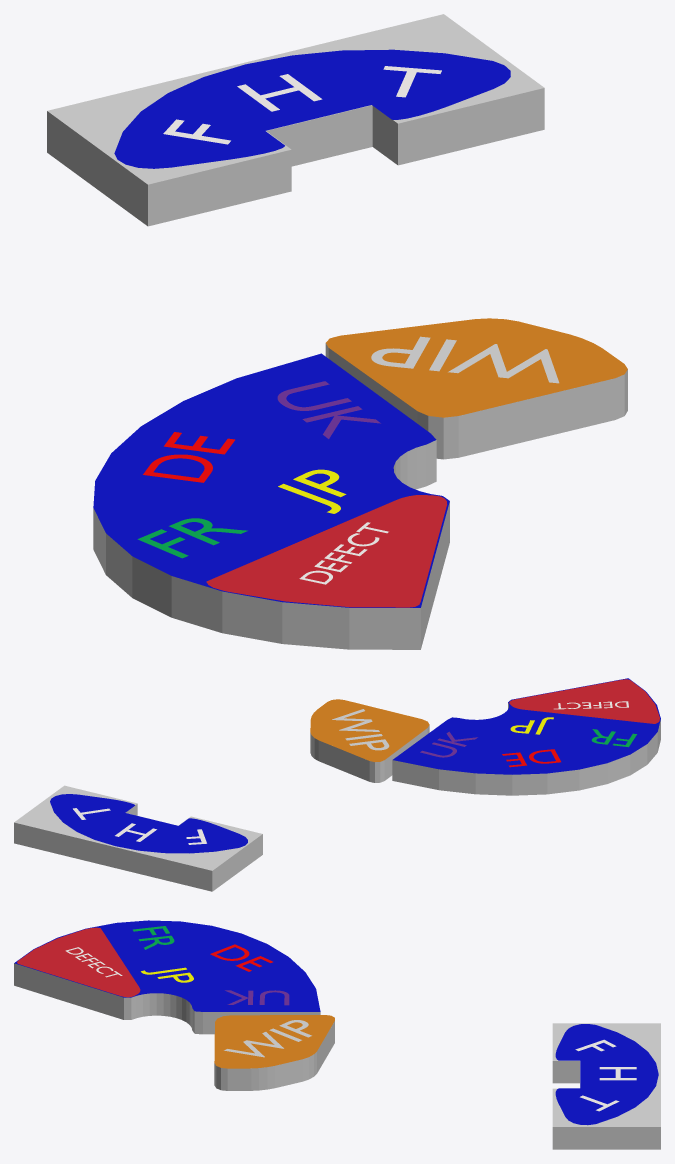
File: production_zones_mobile.dae
The picture shows the model from 3 angles, top to bottom: view 1: azimuth 30°, elevation 25°; view 2: azimuth 150°, elevation 25°; view 3: azimuth 270°, elevation 25°; orthographic projection. The views are drawn at different scales.
Parts seen in each view (by area): view 1: Circle.001, Cube, zones, Plane.001, Circle, Plane, Plane.002, Text, zones.001, Text.004, Text.005, Text.003 (+1 smaller); view 2: Circle.001, Cube, zones, Circle, Plane.001, Plane, Plane.002, Text, zones.001, Text.004, Text.005; view 3: Circle.001, zones, Cube, Circle, Plane.001, Plane, Plane.002, Text, zones.001, Text.004, Text.005, Text.003.
Boxes of the visible parts, x1,y1,x2,y2 form: Circle.001: (93,353,449,607); Cube: (47,14,544,226); zones: (114,49,510,168); Plane.001: (326,318,627,417); Circle: (93,440,449,649); Plane: (206,495,447,607); Plane.002: (325,343,627,459); Text: (371,336,559,383); zones.001: (163,66,441,144); Text.004: (143,432,234,482); Text.005: (277,381,380,438); Text.003: (137,518,247,558); Circle.001: (393,678,660,774); Cube: (14,785,262,891); zones: (50,794,247,853); Circle: (392,703,660,795); Plane.001: (310,699,429,761); Plane: (509,679,659,723); Plane.002: (310,725,429,782); Text: (332,709,389,750); zones.001: (73,808,206,844); Text.004: (502,749,560,767); Text.005: (420,731,477,757); Circle.001: (14,920,320,1011); zones: (555,1024,658,1125); Cube: (552,1023,660,1149); Circle: (14,963,320,1034); Plane.001: (214,1015,334,1068); Plane: (17,927,140,997); Plane.002: (214,1021,334,1090); Text: (224,1020,311,1057); zones.001: (575,1039,636,1111); Text.004: (210,944,272,971); Text.005: (225,990,289,1005); Text.003: (133,926,174,949).
Size of the model in its own units: 0.9876 by 1.31 by 0.0502.
